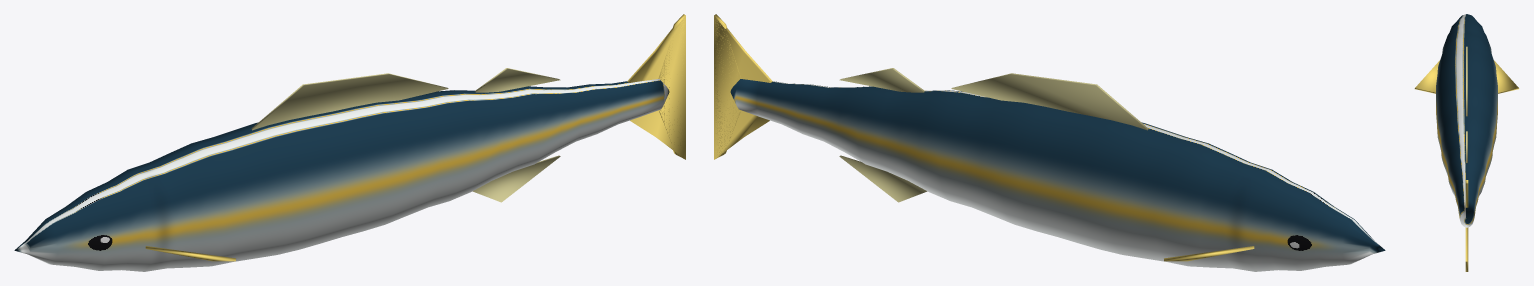
Rendered from buri_sword.glb.
The picture shows the model from 3 angles, left to right: view 1: azimuth 30°, elevation 25°; view 2: azimuth 150°, elevation 25°; view 3: azimuth 270°, elevation 25°; orthographic projection. The views are drawn at different scales.
Visible parts, largest first — view 1: BuriSword; view 2: BuriSword; view 3: BuriSword.
Part boxes in pixels (x1,y1,x2,y2): BuriSword: (14,14,685,271); BuriSword: (714,14,1385,271); BuriSword: (1414,14,1519,271).
Bounding box in the file's own units: 1.02 × 0.243 × 0.2175.
Materials: 3 (1 with a texture image).
